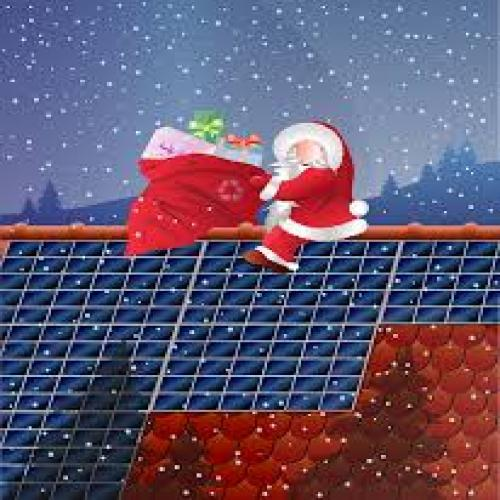Santa: (246, 121, 370, 270)
